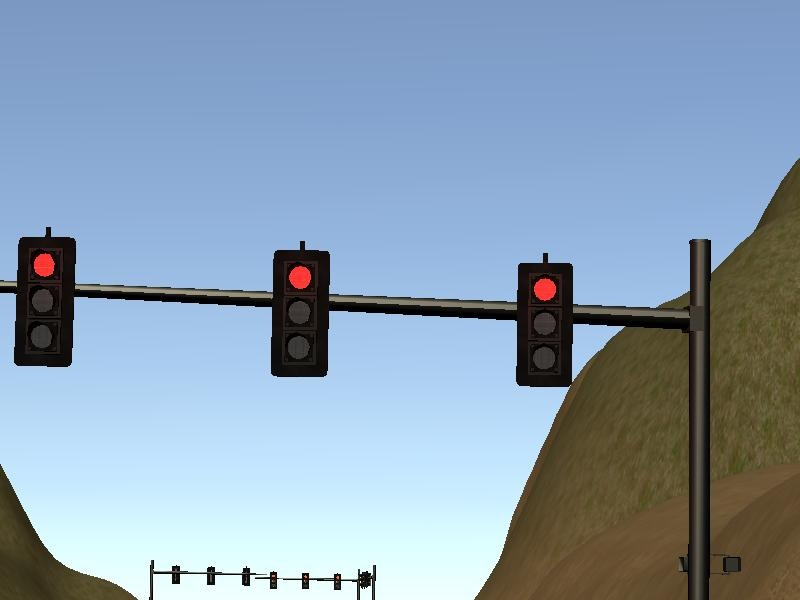RED: (12, 236, 75, 367), (268, 247, 331, 378), (514, 262, 573, 389)
